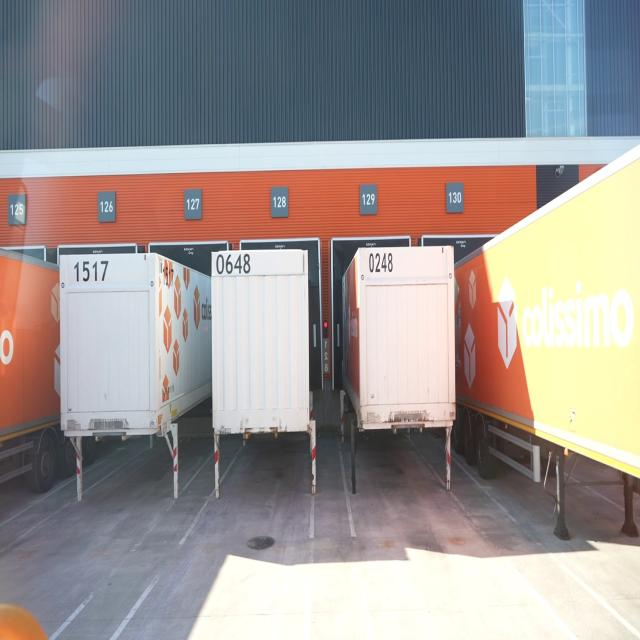Code: (71, 252, 112, 288), (213, 252, 254, 280), (361, 250, 395, 278)
